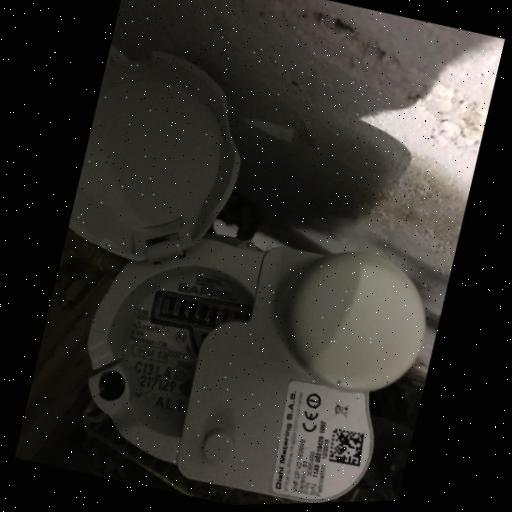0: (157, 295, 175, 319), (169, 298, 187, 321), (213, 307, 229, 331)
3: (225, 309, 237, 323)
4: (202, 305, 219, 328), (181, 300, 197, 324), (191, 303, 207, 326)
border_water_meter_number: (147, 283, 255, 347)
